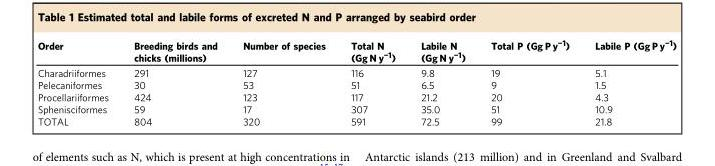table: (36, 37, 675, 126)
table column: (120, 37, 229, 126), (229, 37, 337, 126), (477, 37, 581, 126), (581, 37, 675, 126), (36, 37, 120, 126), (337, 37, 407, 126), (407, 37, 477, 126)
table column header: (36, 37, 675, 64)
table row: (36, 37, 675, 64), (36, 64, 675, 78), (36, 78, 675, 90), (36, 90, 675, 102), (36, 102, 675, 114), (36, 114, 675, 126)
